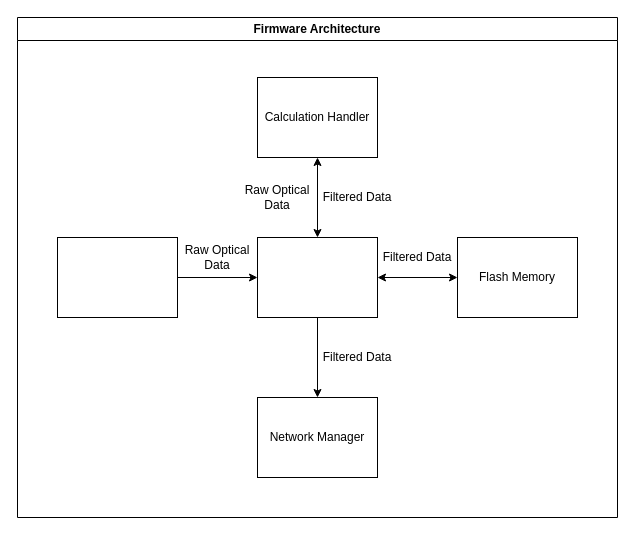
The diagram is 635 pixels wide and 535 high, and some of its shapes have lost their labels. The box of each missing label's shape, as (x1, y1, x2, y2) in pixels:
PPG Sensor: (56, 236, 178, 318)
System Manager: (256, 236, 378, 318)
